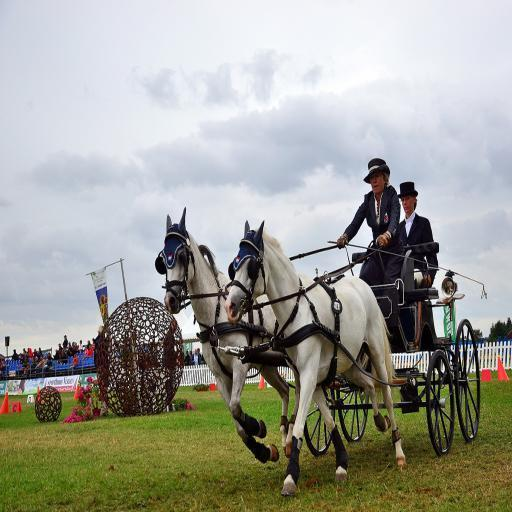horse: (224, 218, 408, 496), (161, 207, 301, 467)
